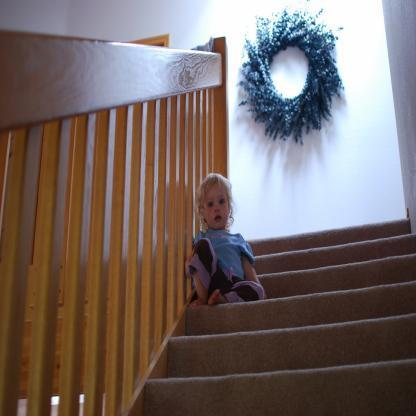person: (185, 170, 273, 311)
stair: (250, 220, 416, 415)
